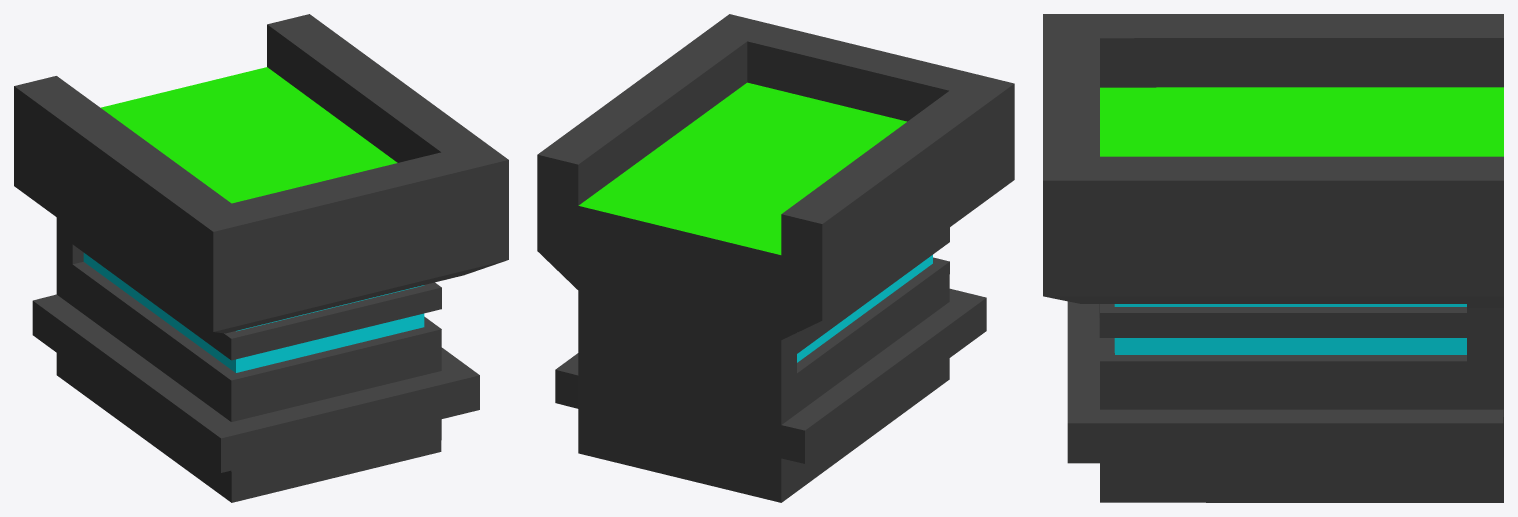
The model's file is Bridge U.fbx.
3 views of the same model, side by side, from view 1: azimuth 30°, elevation 25°; view 2: azimuth 150°, elevation 25°; view 3: azimuth 270°, elevation 25° (orthographic). The views are drawn at different scales.
Visible parts, largest first — view 1: Bridge U; view 2: Bridge U; view 3: Bridge U.
Part boxes in pixels (<box>): Bridge U: <box>14,14,508,502</box>; Bridge U: <box>537,14,1014,502</box>; Bridge U: <box>1043,14,1503,502</box>.
Size of the model in its own units: 150 by 145 by 175.
